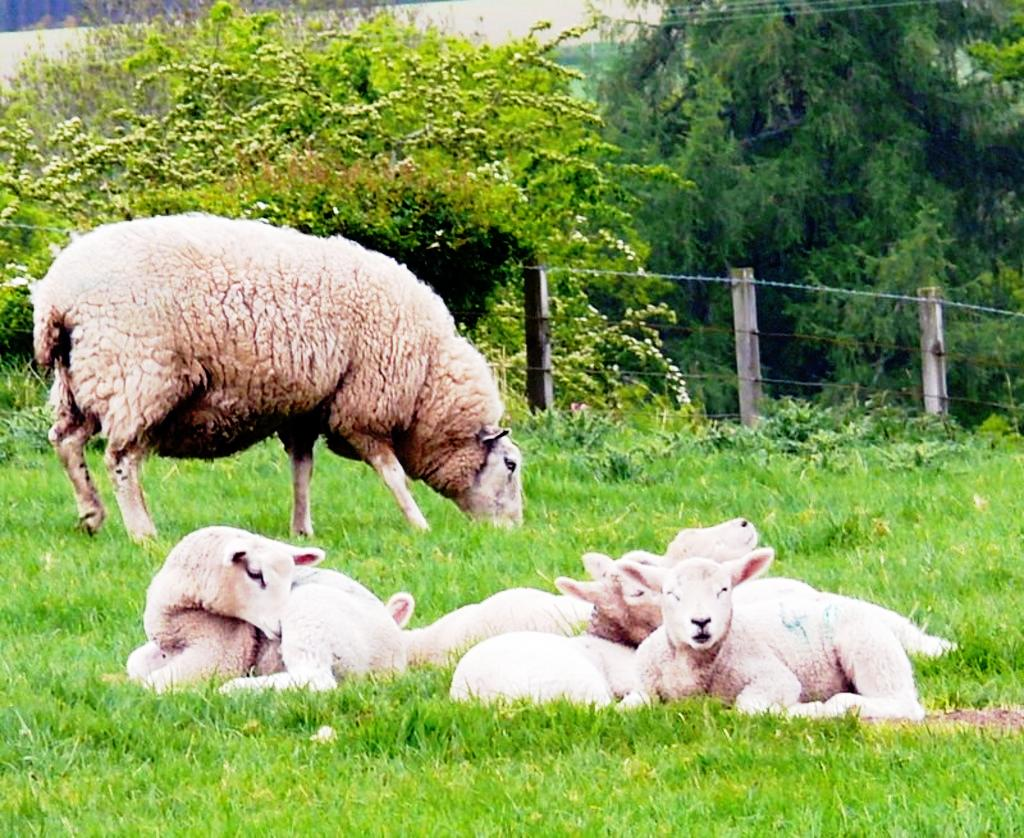Sheep: (28, 208, 526, 548), (610, 562, 922, 726), (123, 524, 407, 698), (550, 555, 960, 659), (622, 513, 812, 605), (444, 631, 645, 715), (386, 590, 592, 664)
